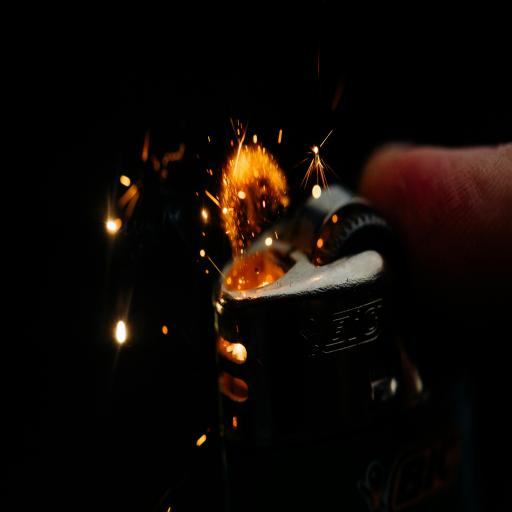lighter: (156, 94, 398, 470)
